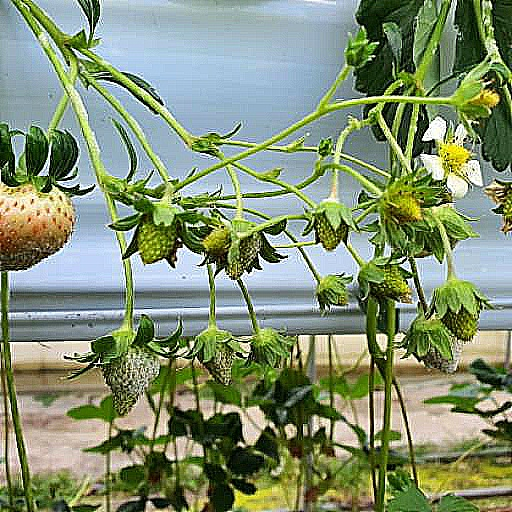Powdery Mildew Fruit: (350, 337, 413, 416), (51, 321, 103, 376), (274, 332, 319, 386)
